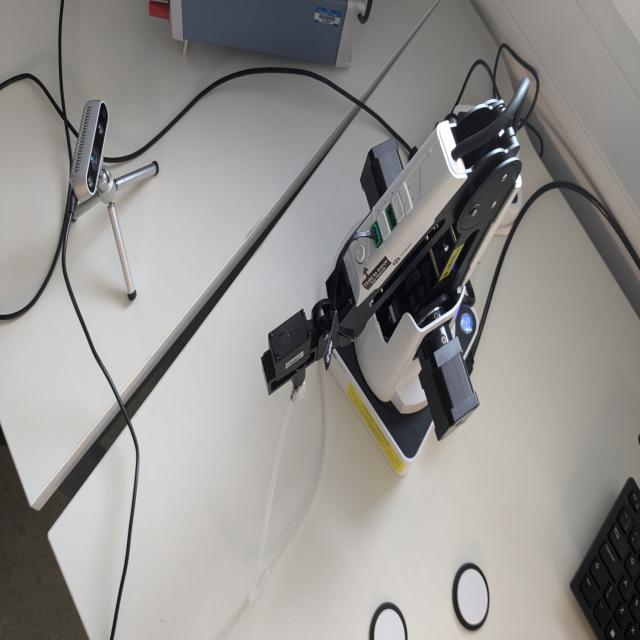Robot-end-effector-HF8z: (260, 304, 321, 416)
